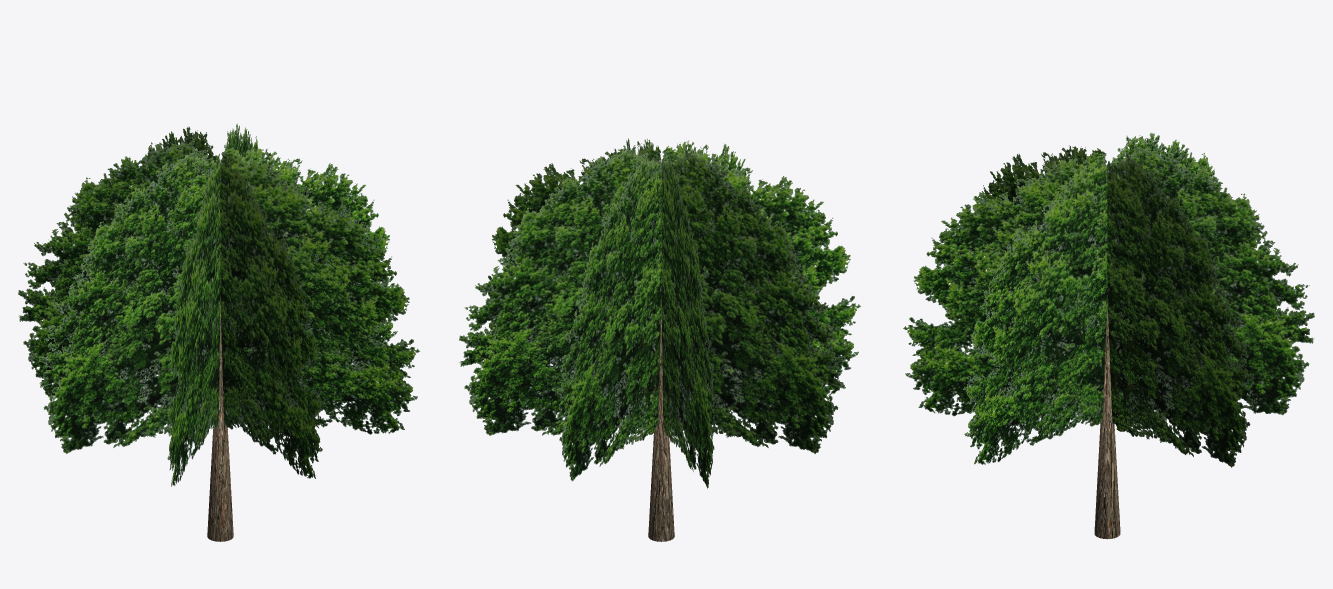
The model's file is tree.FBX.
3 renders of one model, left to right at view 1: azimuth 30°, elevation 25°; view 2: azimuth 150°, elevation 25°; view 3: azimuth 270°, elevation 25°, orthographic.
Parts seen in each view (by area): view 1: tree; view 2: tree; view 3: tree.
Part boxes in pixels (x1,y1,x2,y2): tree: (18,123,419,541); tree: (459,138,860,541); tree: (903,132,1314,539).
Size of the model in its own units: 160 by 180 by 160.
